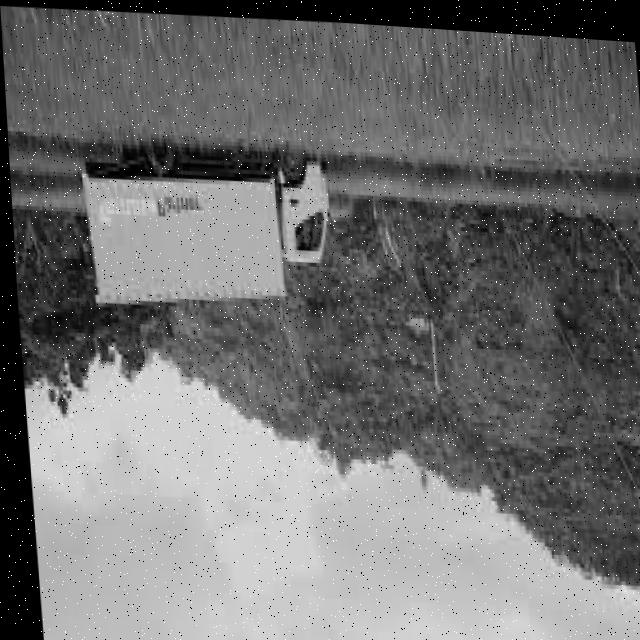truck: (264, 129, 342, 280)
